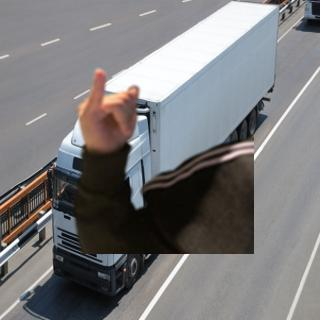HAVE: (75, 62, 144, 152)
